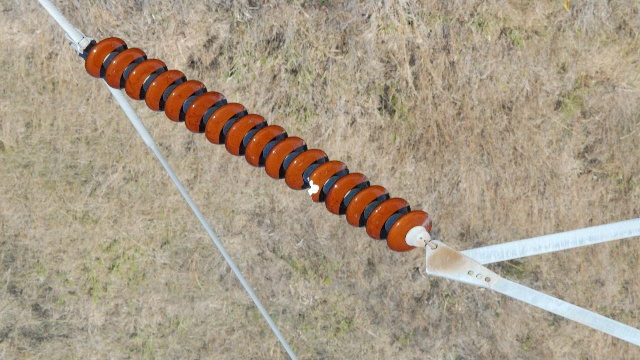broken_local: (306, 172, 321, 203)
insulator_unspecified: (85, 36, 432, 250)
